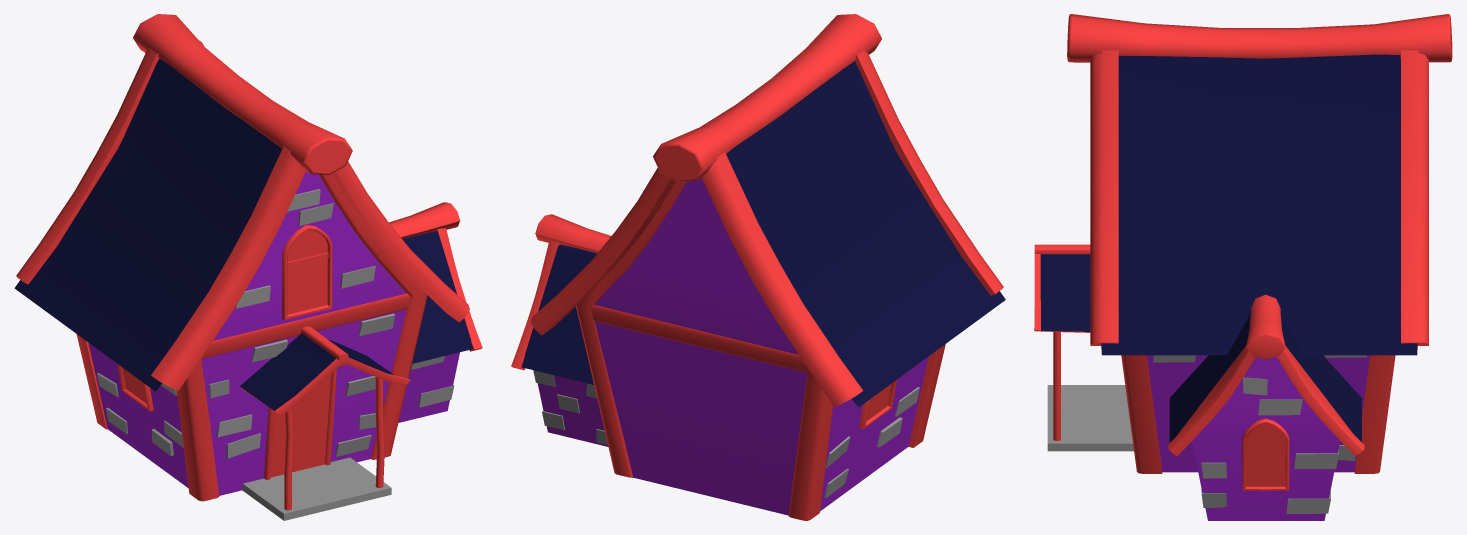
File: Casa_Buenaa.fbx
3 views of the same model, side by side, from view 1: azimuth 30°, elevation 25°; view 2: azimuth 150°, elevation 25°; view 3: azimuth 270°, elevation 25° (orthographic). The views are drawn at different scales.
Parts seen in each view (by area): view 1: madera, Object024; view 2: madera, Object024; view 3: madera, Object024.
Part boxes in pixels (bbox=[...]): madera: bbox=[14, 14, 482, 520]; Object024: bbox=[97, 189, 454, 458]; madera: bbox=[511, 14, 1005, 520]; Object024: bbox=[533, 370, 919, 497]; madera: bbox=[1034, 14, 1452, 520]; Object024: bbox=[1153, 355, 1367, 513].
Bounding box in the file's own units: 626 × 586 × 548.
